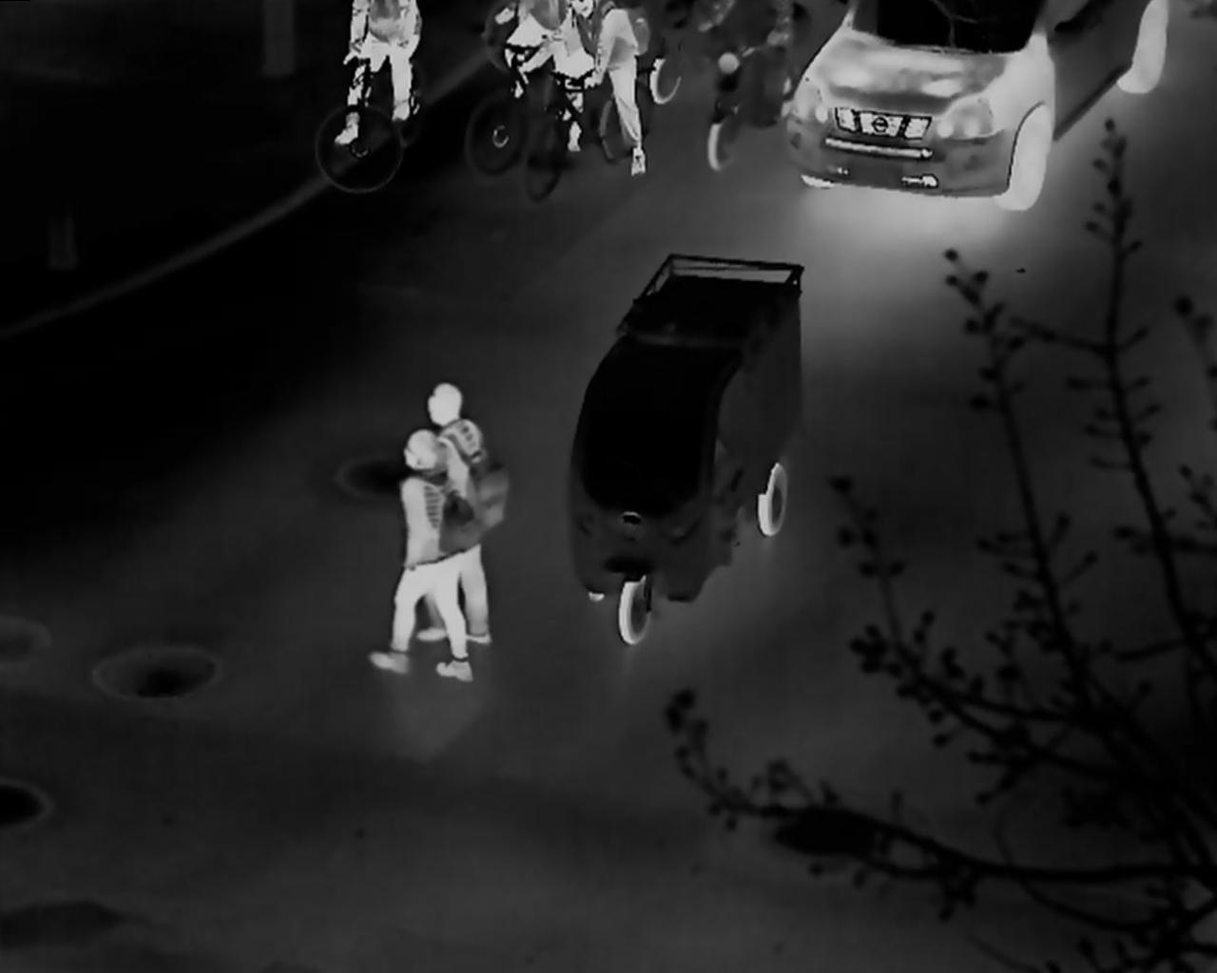person: (363, 428, 474, 683), (415, 380, 498, 652), (550, 4, 643, 173)
